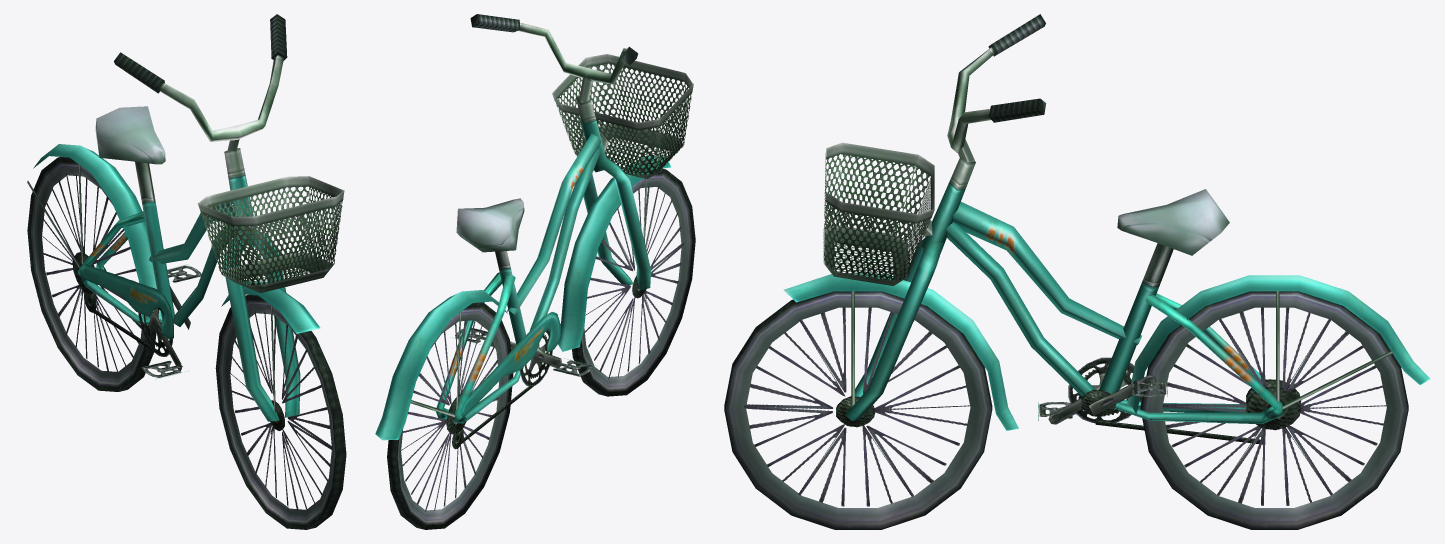
The model's file is bike2.gltf.
The picture shows the model from 3 angles, left to right: view 1: azimuth 30°, elevation 25°; view 2: azimuth 150°, elevation 25°; view 3: azimuth 270°, elevation 25°; orthographic projection. The views are drawn at different scales.
Visible parts, largest first — view 1: Lo-Body_01; view 2: Lo-Body_01; view 3: Lo-Body_01.
Part boxes in pixels (box(x1,y1,x2,y2)): Lo-Body_01: box(27, 14, 346, 529); Lo-Body_01: box(375, 14, 695, 529); Lo-Body_01: box(724, 14, 1430, 529).
Size of the model in its own units: 0.6479 by 1.54 by 2.09.
1 material, 1 textured.
